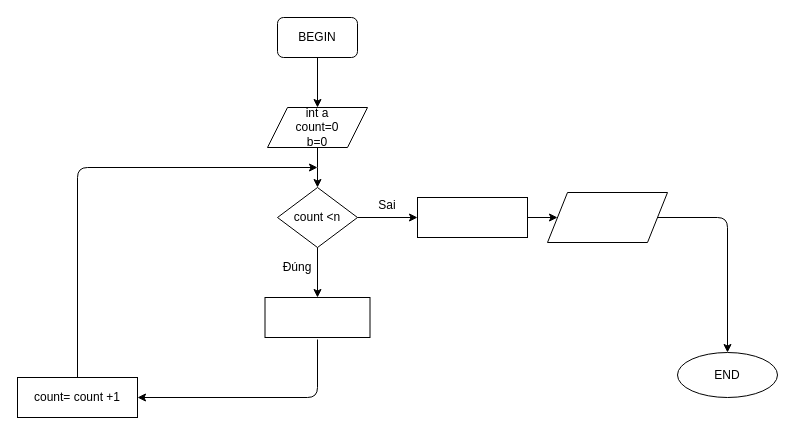
Image size: 795x435. Some labels were removed from this diagram. The centre of each missing label's shape, as x and y in pixels:
"avg = b/count" belongs at point 472,217.
"b = b+a[count]" belongs at point 317,317.
"Hiển thị kết quả" belongs at point 607,217.
